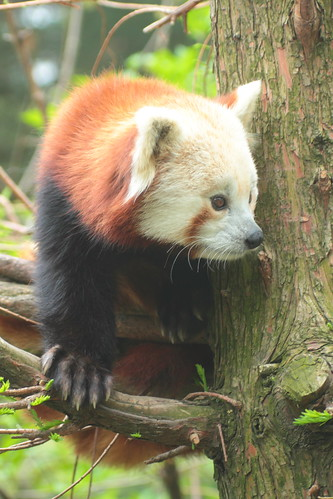animal: (34, 75, 279, 461)
